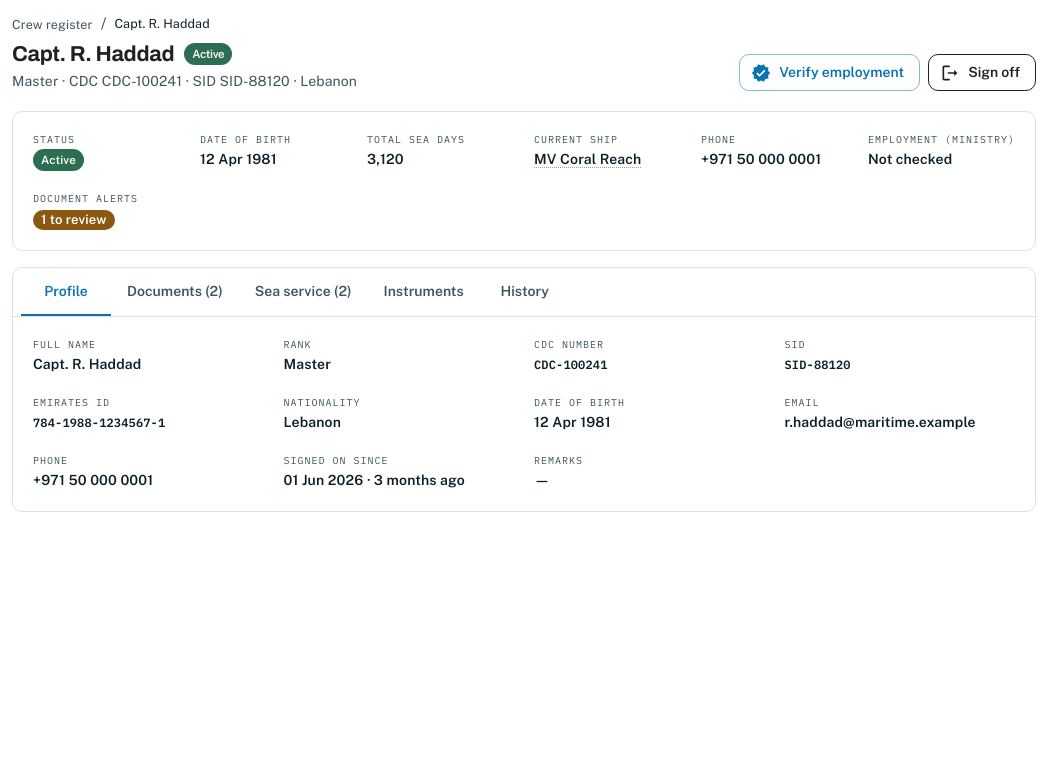
Test: Seafarer record › shows the identity header, the documents that gate a sign-on and the service book
Expected: the text "Master · CDC CDC-100241 · SID SID-88120 · Lebanon" is shown, [12,71,357,91]
Expected: the text "Total sea days" is shown, [367,133,465,146]
Click the tab "Documents (2)".
click(175, 292)  # box [111,268,239,316]
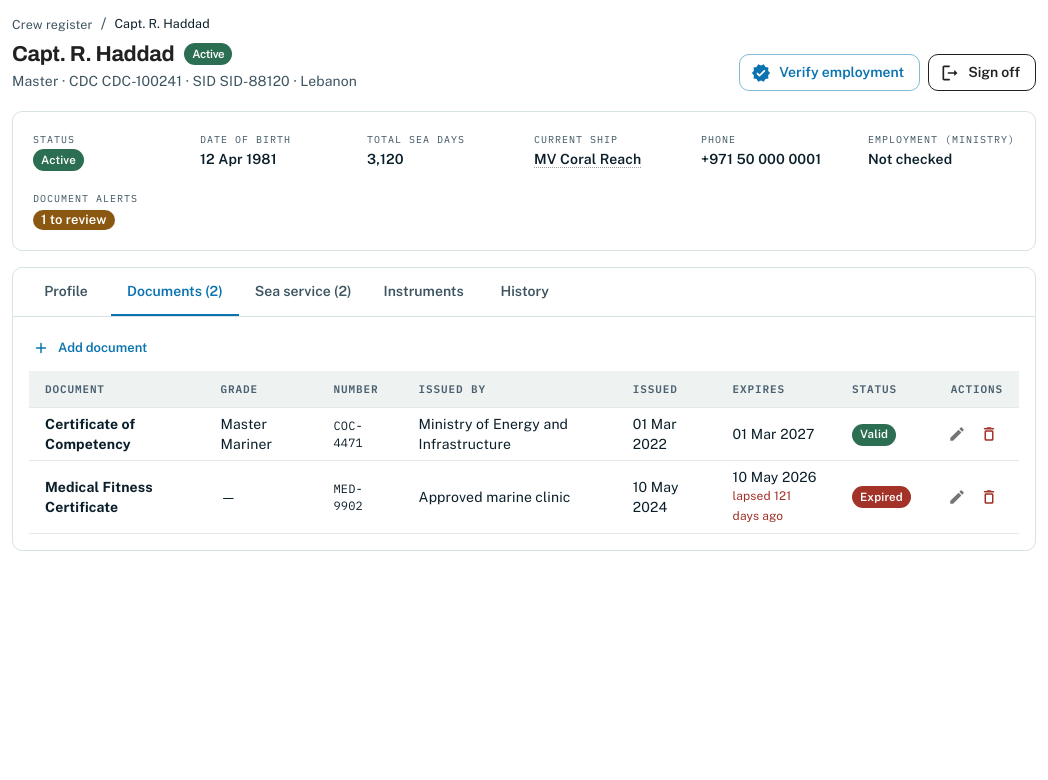
Expected: the text "Certificate of Competency" is shown, [45,416,135,452]
Expected: the text "Master Mariner" is shown, [204,408,318,461]
Expected: the text "MED-9902" is shown, [318,461,402,534]
Click the tab "Sea service (2)".
click(303, 292)  # box [239,268,368,316]
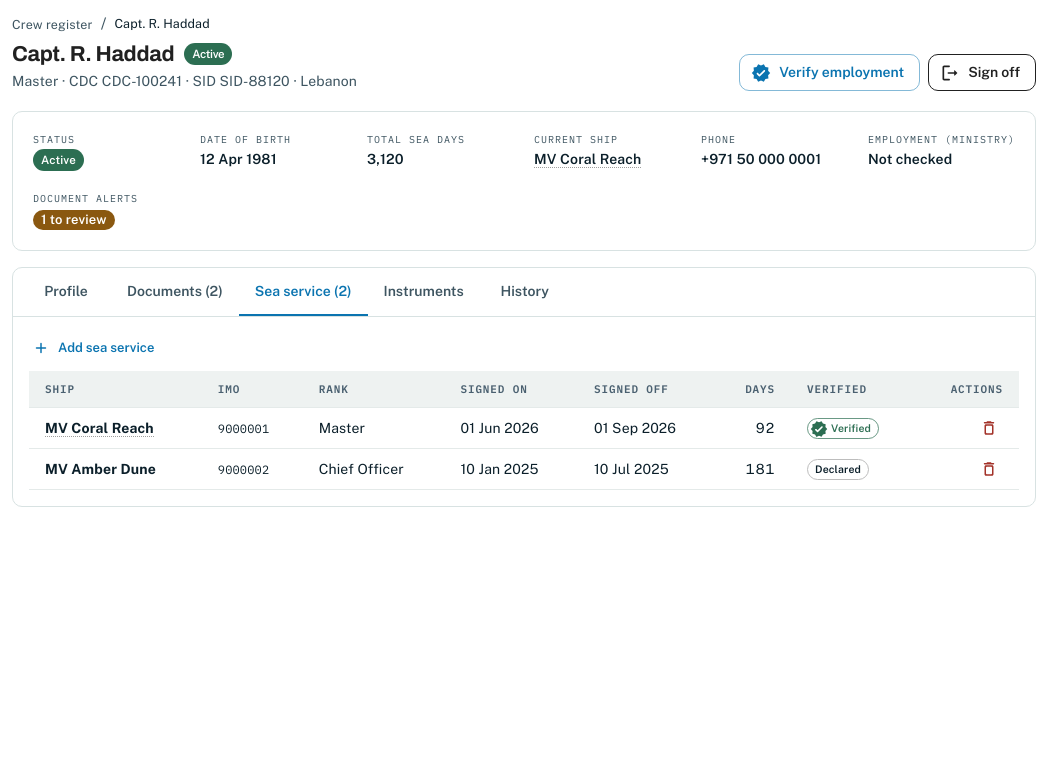
Expected: the text "MV Amber Dune" is shown, [45,461,156,477]
Expected: the text "Chief Officer" is shown, [303,449,444,490]
Expected: the text "Verified" is shown, [831,422,871,434]
